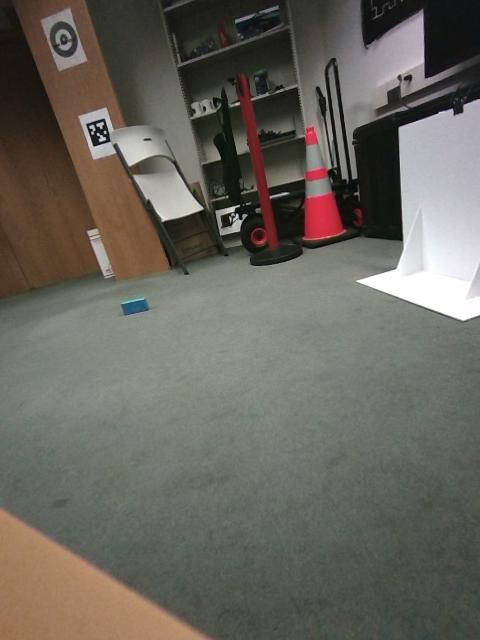block: (412, 266, 451, 306)
